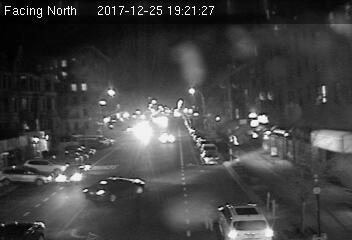car: (84, 174, 147, 203), (56, 163, 88, 184), (202, 151, 221, 164), (157, 132, 177, 143)
